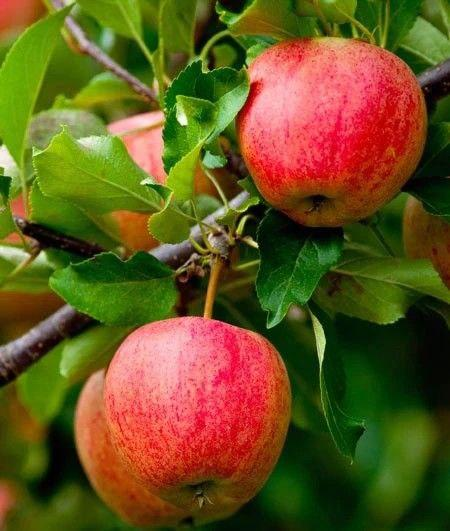Apple: (103, 314, 292, 518), (234, 36, 430, 226)
